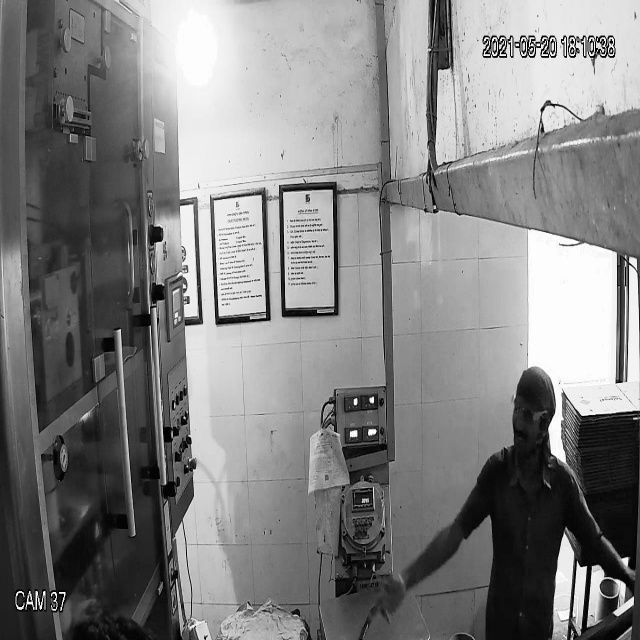Gafas: (510, 396, 552, 429)
